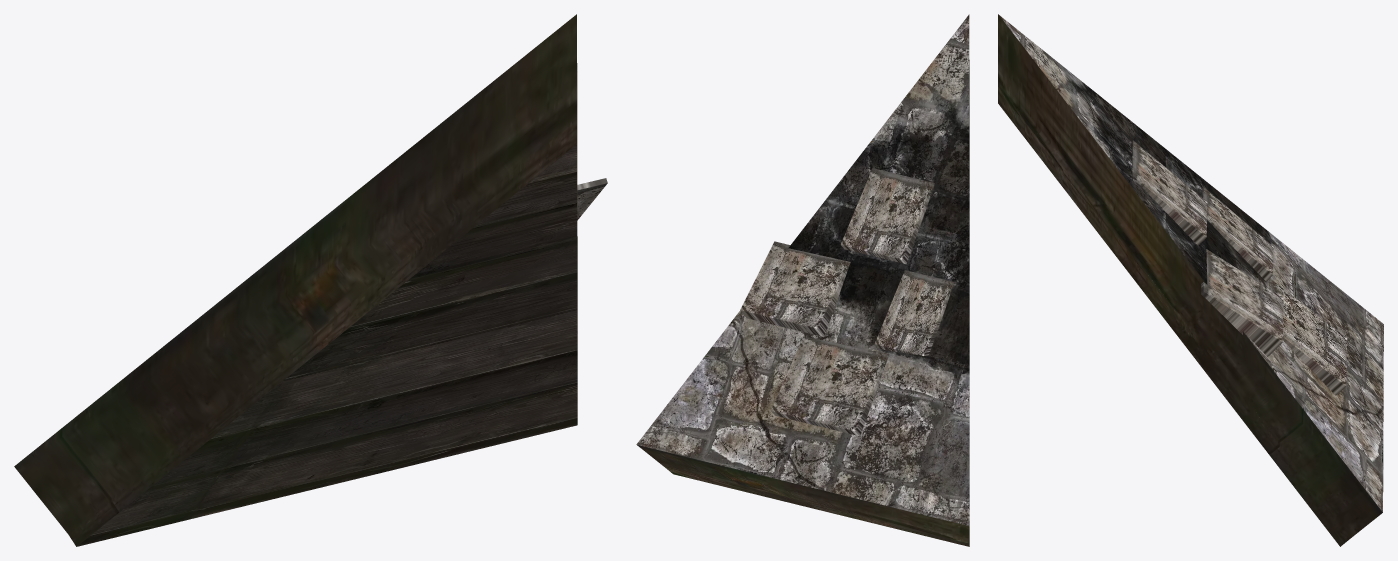
3 views of the same model, side by side, from view 1: azimuth 30°, elevation 25°; view 2: azimuth 150°, elevation 25°; view 3: azimuth 270°, elevation 25° (orthographic). The views are drawn at different scales.
Visible parts, largest first — view 1: SM_BB_T3_Roof_Triangle_Med_Inverted_LOD0; view 2: SM_BB_T3_Roof_Triangle_Med_Inverted_LOD0; view 3: SM_BB_T3_Roof_Triangle_Med_Inverted_LOD0.
Boxes of the visible parts, left/top/right/bottom form: SM_BB_T3_Roof_Triangle_Med_Inverted_LOD0: left=14, top=14, right=607, bottom=546; SM_BB_T3_Roof_Triangle_Med_Inverted_LOD0: left=636, top=14, right=969, bottom=546; SM_BB_T3_Roof_Triangle_Med_Inverted_LOD0: left=998, top=14, right=1383, bottom=546.
Bounding box in the file's own units: 1.69 × 1.88 × 1.47.
3 materials, 3 textured.
